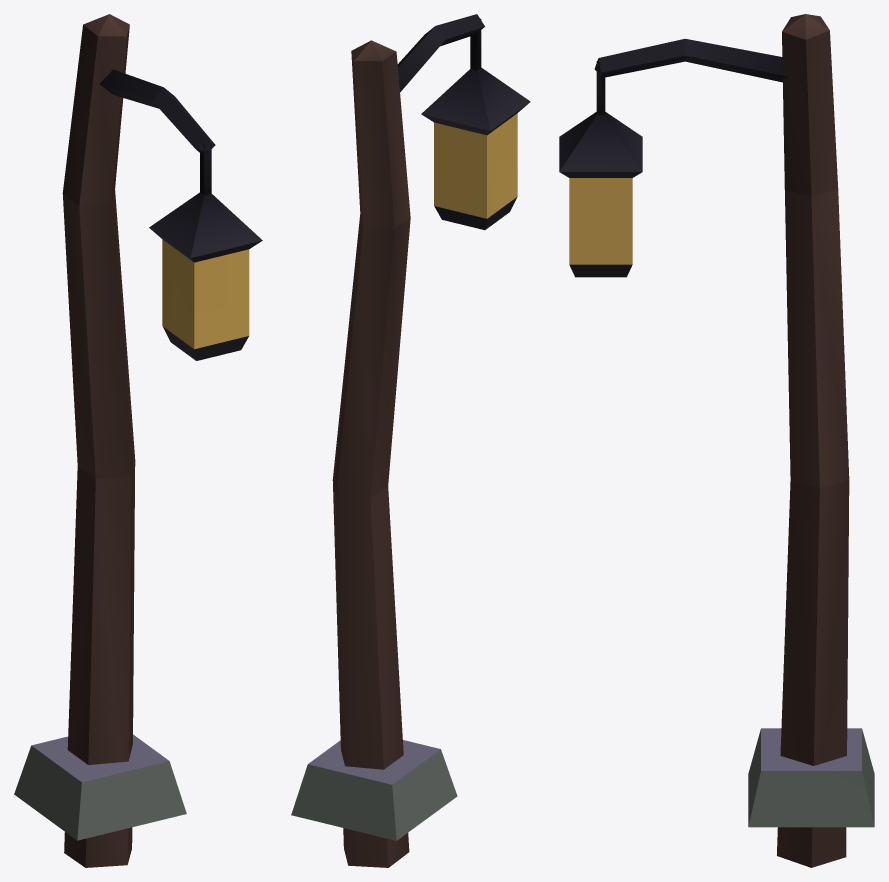
File: LanternPost.fbx
3 views of the same model, side by side, from view 1: azimuth 30°, elevation 25°; view 2: azimuth 150°, elevation 25°; view 3: azimuth 270°, elevation 25° (orthographic). The views are drawn at different scales.
Visible parts, largest first — view 1: LanternPost; view 2: LanternPost; view 3: LanternPost.
Boxes of the visible parts, x1,y1,x2,y2 form: LanternPost: [14, 14, 262, 867]; LanternPost: [291, 14, 530, 867]; LanternPost: [559, 14, 874, 867].
Bounding box in the file's own units: 0.45 × 3.31 × 1.12.
